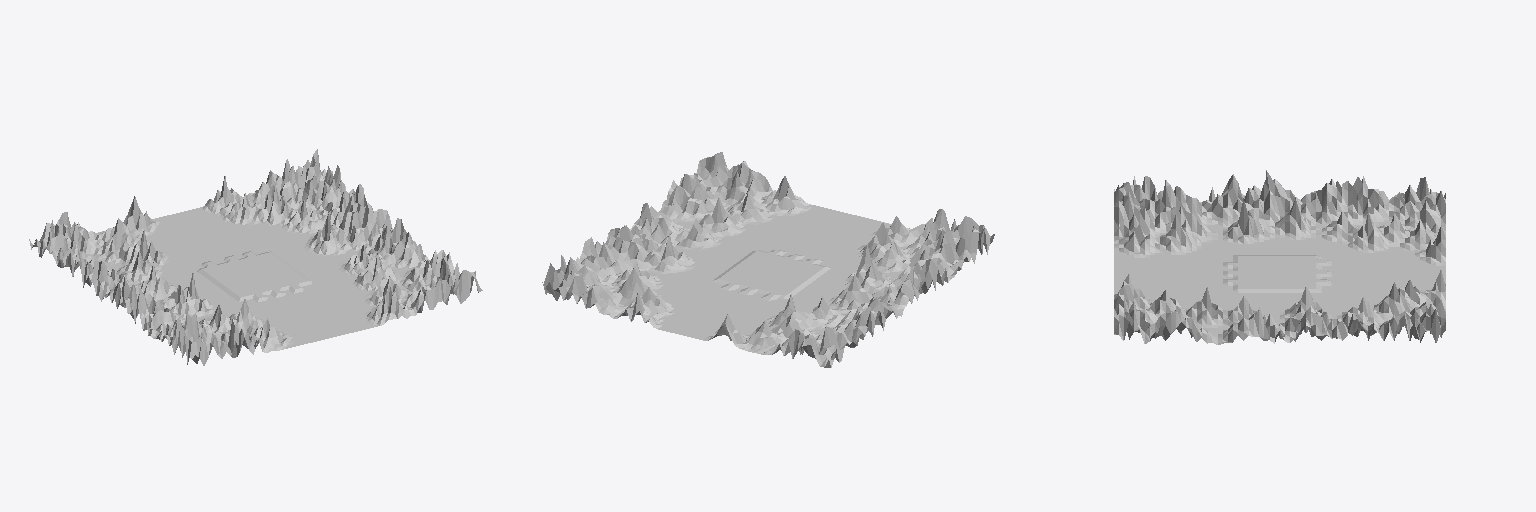
File: map.obj
3 views of the same model, side by side, from view 1: azimuth 30°, elevation 25°; view 2: azimuth 150°, elevation 25°; view 3: azimuth 270°, elevation 25° (orthographic).
Parts seen in each view (by area): view 1: map; view 2: map; view 3: map.
Part boxes in pixels (left/top/right/bottom): map: left=29, top=149, right=482, bottom=365; map: left=542, top=152, right=994, bottom=367; map: left=1114, top=170, right=1445, bottom=344.
Bounding box in the file's own units: 80 × 10.13 × 80.